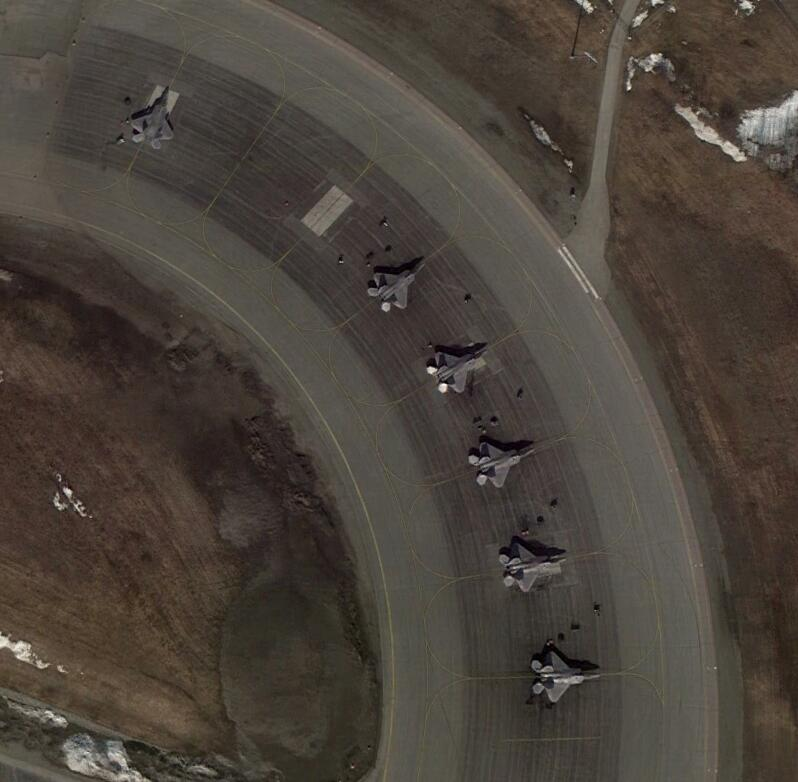A15: (530, 650, 604, 704), (497, 542, 572, 594), (365, 255, 425, 315), (468, 438, 537, 490), (427, 342, 489, 396), (128, 86, 178, 151)
